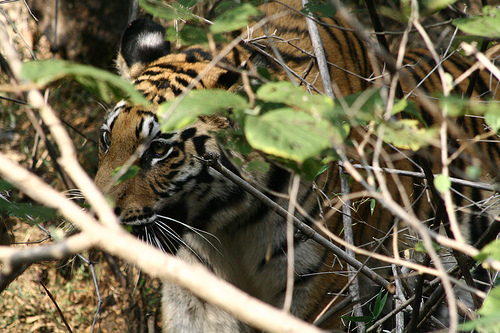Tigre: (83, 64, 209, 217)
